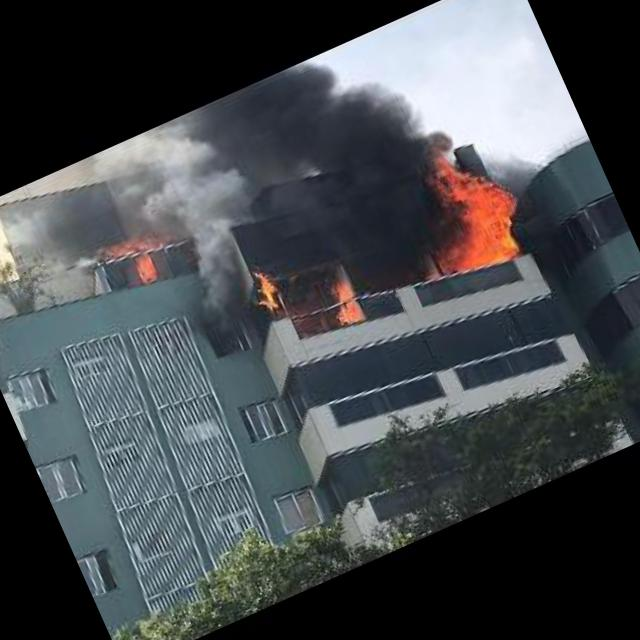fire: (402, 143, 540, 280), (107, 234, 169, 290), (240, 268, 282, 316), (324, 280, 360, 322)
smoke: (168, 4, 496, 271), (108, 122, 260, 354), (0, 145, 150, 300), (488, 136, 580, 242)
